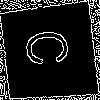C: (25, 27, 79, 68)
